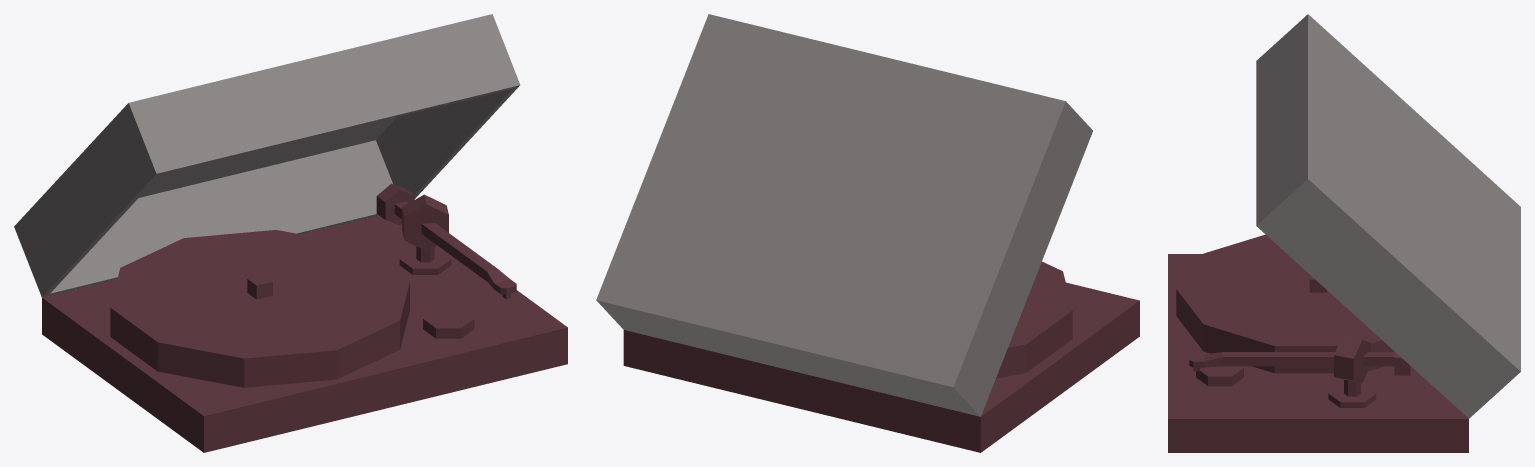
File: gramophone.fbx
3 renders of one model, left to right at view 1: azimuth 30°, elevation 25°; view 2: azimuth 150°, elevation 25°; view 3: azimuth 270°, elevation 25°, orthographic. The views are drawn at different scales.
Visible parts, largest first — view 1: gramophone; view 2: gramophone; view 3: gramophone.
Boxes of the visible parts, <box> form: gramophone: <box>14,14,567,452</box>; gramophone: <box>596,14,1139,452</box>; gramophone: <box>1168,14,1520,452</box>.
Bounding box in the file's own units: 0.415 × 0.3214 × 0.3752.
